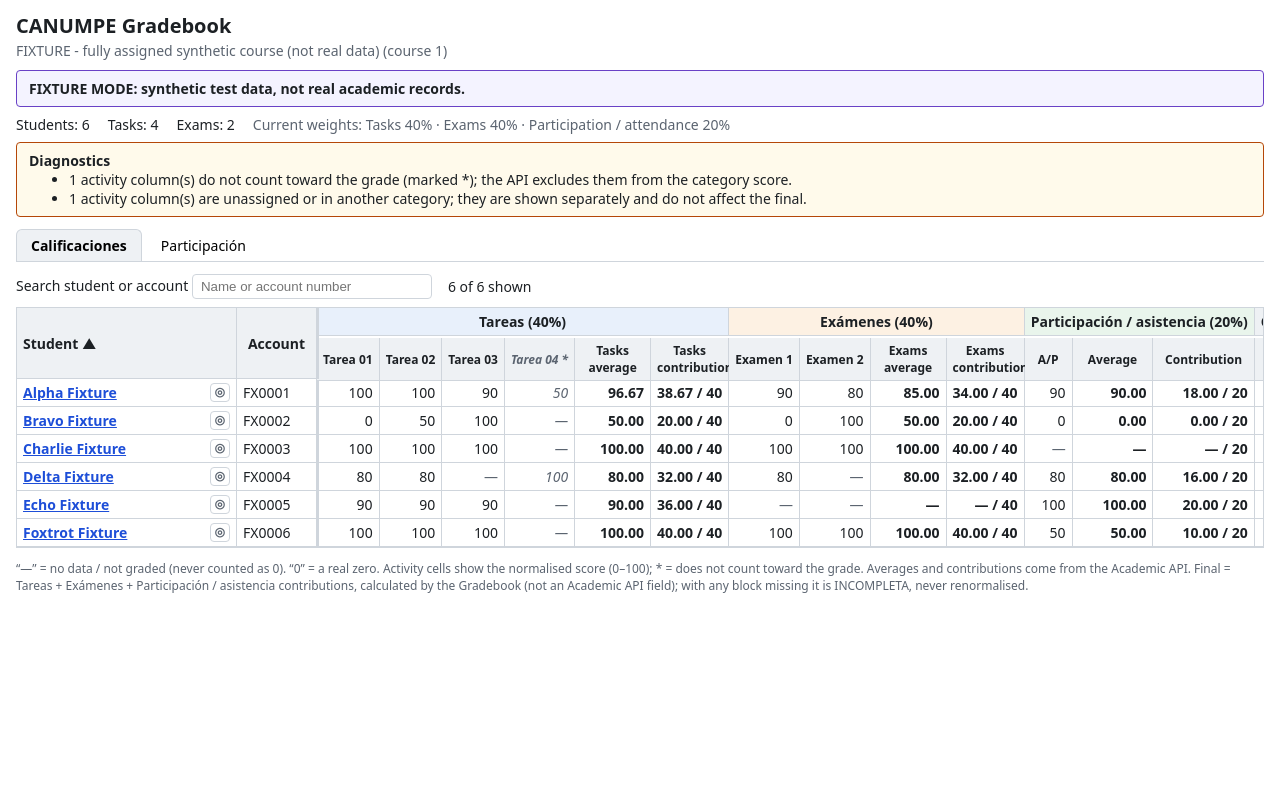
App › opens and closes the student detail
The image size is (1280, 800).
Expected: the table is shown, top-left (17, 308), bottom-right (1264, 547)
Click the button "Charlie Fixture" at (75, 448), box top-left (23, 439), bottom-right (126, 458)
(page scrolled)
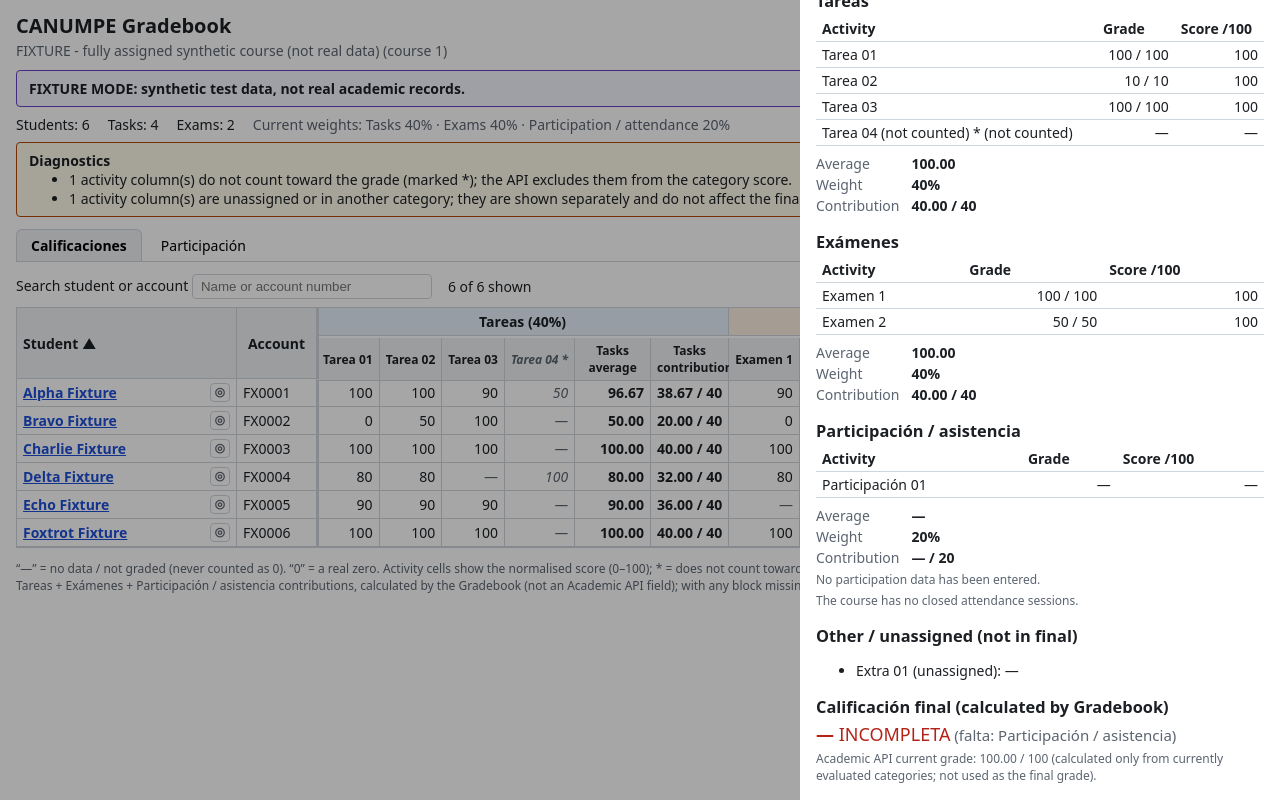
Expected: the text "40.00 / 40" is shown 2 times, top-left (912, 196), bottom-right (977, 215); top-left (912, 385), bottom-right (977, 404)
Expected: the text "No participation data has been entered." is shown, top-left (816, 571), bottom-right (1040, 588)
Expected: the heading "Calificación final (calculated by Gradebook)" is shown, top-left (816, 696), bottom-right (1169, 718)
Press Escape
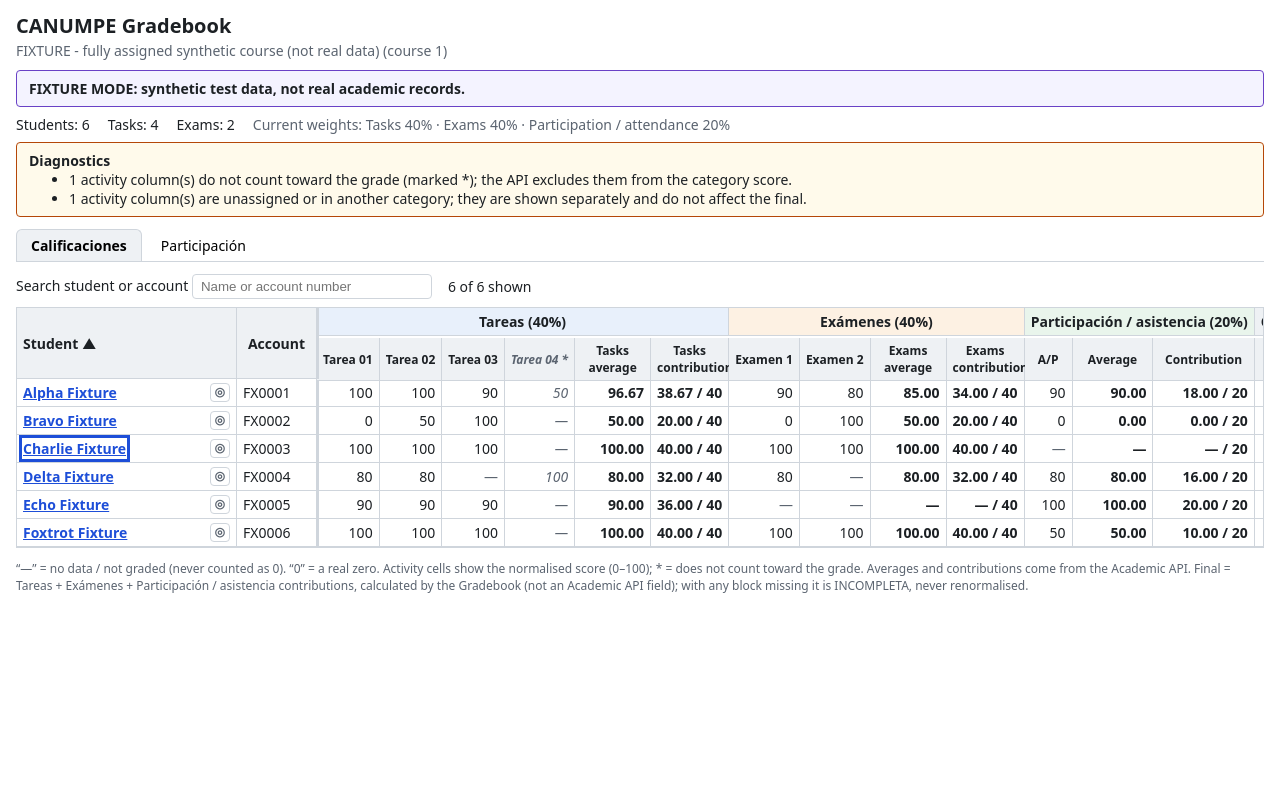
Expected: the dialog is gone
